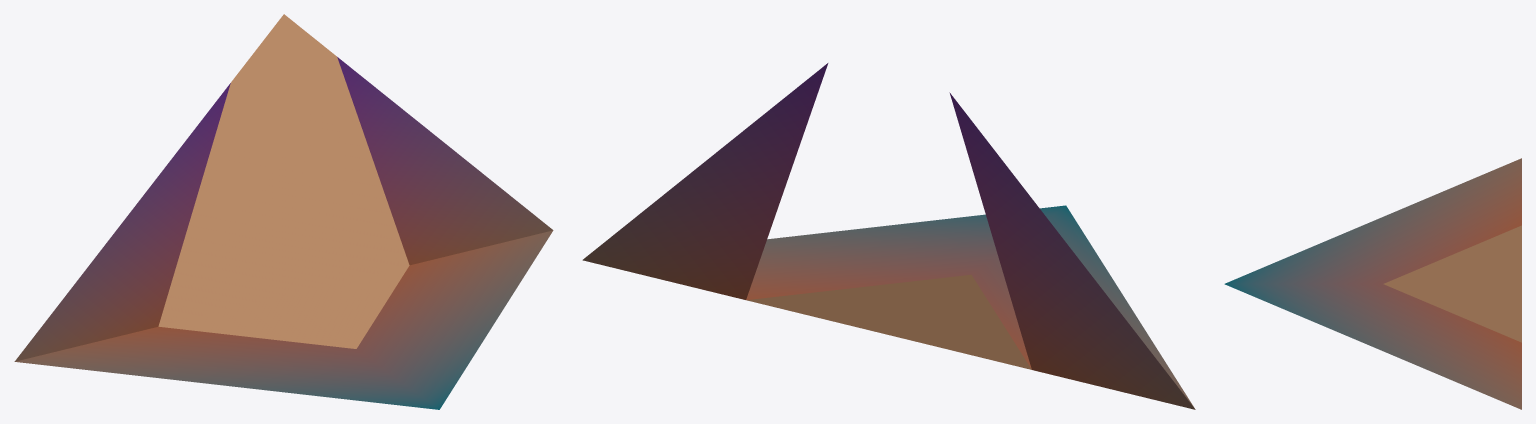
Rendered from core_materials.glb.
3 views of the same model, side by side, from view 1: azimuth 30°, elevation 25°; view 2: azimuth 150°, elevation 25°; view 3: azimuth 270°, elevation 25° (orthographic). The views are drawn at different scales.
Visible parts, largest first — view 1: Shared folded mesh (×2); view 2: Shared folded mesh (×2); view 3: Shared folded mesh (×2).
Part boxes in pixels (x1,y1,x2,y2): Shared folded mesh (×2): [14, 14, 553, 409]; Shared folded mesh (×2): [582, 63, 1195, 409]; Shared folded mesh (×2): [1224, 158, 1521, 409].
Size of the model in its own units: 2 by 1 by 1.
Materials: 2 (1 with a texture image).
